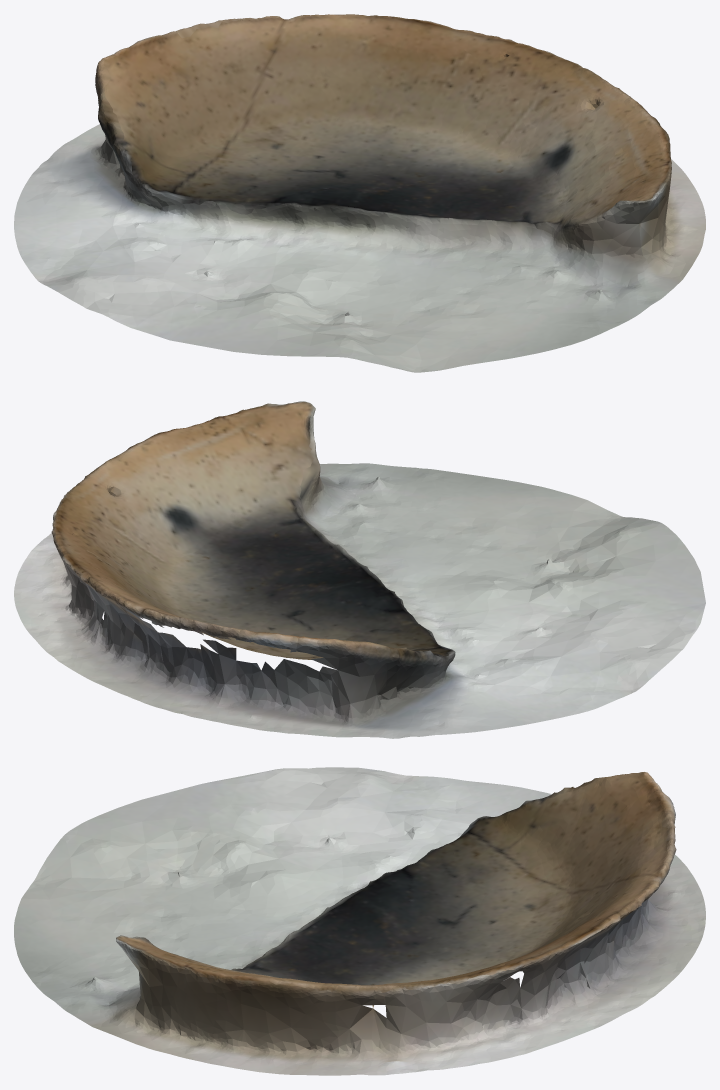
The picture shows the model from 3 angles, top to bottom: view 1: azimuth 30°, elevation 25°; view 2: azimuth 150°, elevation 25°; view 3: azimuth 270°, elevation 25°; orthographic projection. The views are drawn at different scales.
Visible parts, largest first — view 1: mesh; view 2: mesh; view 3: mesh.
Boxes of the visible parts, left/top/right/bottom form: mesh: left=14, top=14, right=705, bottom=372; mesh: left=14, top=401, right=705, bottom=738; mesh: left=14, top=767, right=705, bottom=1075.
Bounding box in the file's own units: 0.1923 × 0.0307 × 0.1866.
1 material, 1 textured.
